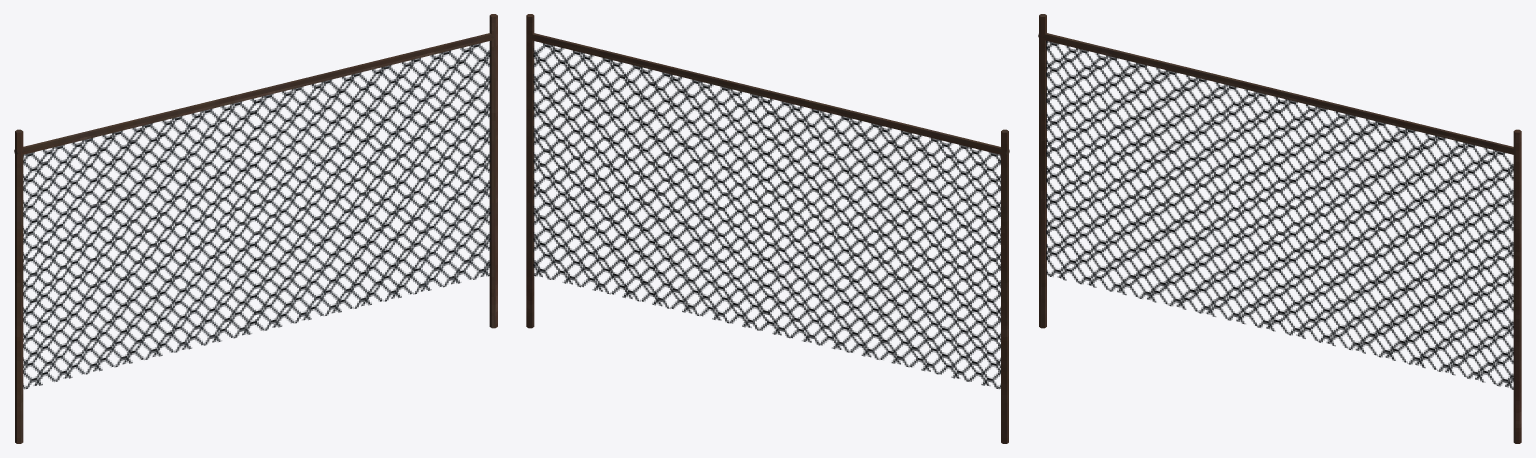
The model's file is psx_style_chain_fence.glb.
The picture shows the model from 3 angles, left to right: view 1: azimuth 30°, elevation 25°; view 2: azimuth 150°, elevation 25°; view 3: azimuth 330°, elevation 25°; orthographic projection.
Visible parts, largest first — view 1: fence_chain_a, fence_chain_b; view 2: fence_chain_b, fence_chain_a; view 3: fence_chain_a, fence_chain_b.
Boxes of the visible parts, bbox=[...] form: fence_chain_a: bbox=[15, 38, 493, 443]; fence_chain_b: bbox=[14, 14, 497, 388]; fence_chain_b: bbox=[526, 14, 1009, 388]; fence_chain_a: bbox=[530, 38, 1008, 443]; fence_chain_a: bbox=[1039, 14, 1513, 389]; fence_chain_b: bbox=[1038, 33, 1521, 443].
Size of the model in its own units: 3.37 by 2.08 by 0.05.
2 materials, 2 textured.
